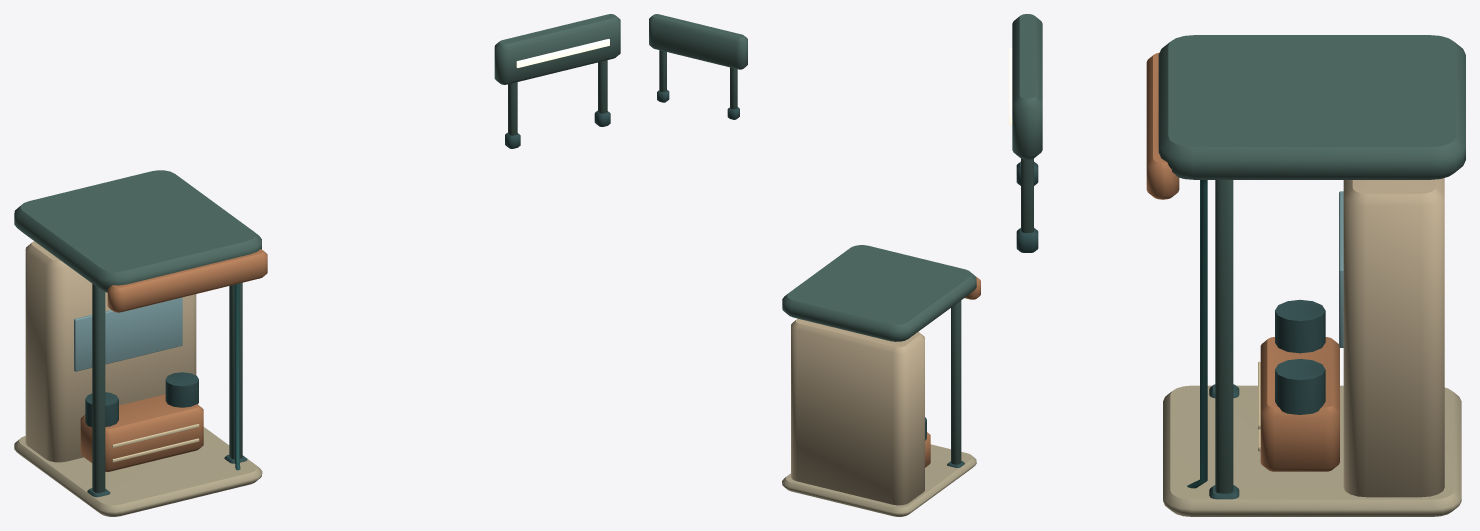
The model's file is wilderness_workshop_4.glb.
The picture shows the model from 3 angles, left to right: view 1: azimuth 30°, elevation 25°; view 2: azimuth 150°, elevation 25°; view 3: azimuth 270°, elevation 25°; orthographic projection. The views are drawn at different scales.
Parts seen in each view (by area): view 1: WildernessWorkshop4; view 2: WildernessWorkshop4; view 3: WildernessWorkshop4.
Part boxes in pixels (x1,y1,x2,y2): WildernessWorkshop4: [14, 14, 620, 516]; WildernessWorkshop4: [649, 14, 980, 516]; WildernessWorkshop4: [1009, 14, 1465, 516].
Bounding box in the file's own units: 6.77 × 5.89 × 3.79.
